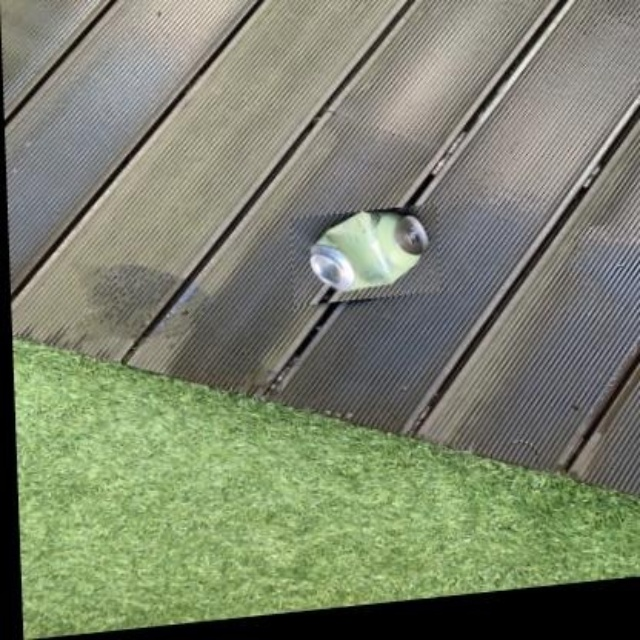trash: (311, 211, 428, 291)
